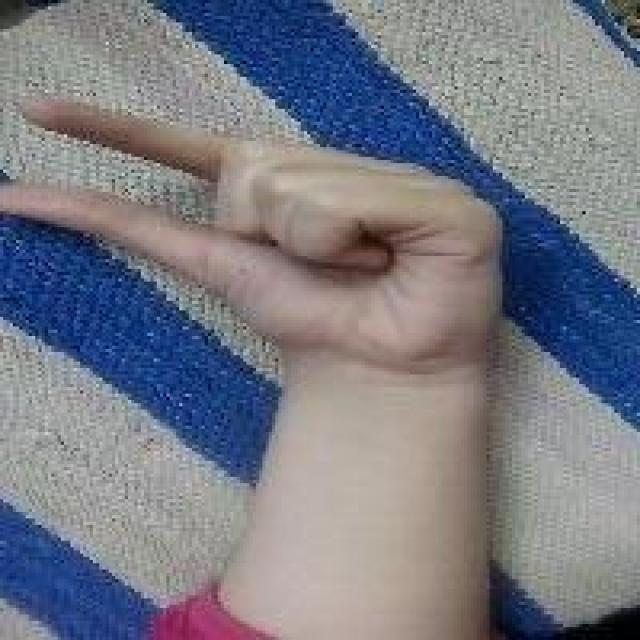G: (0, 90, 515, 355)
